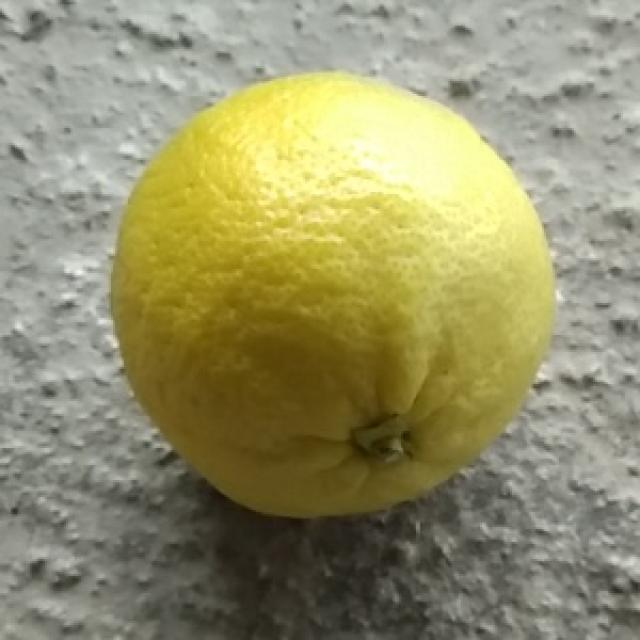Ripe: (102, 62, 566, 524)
